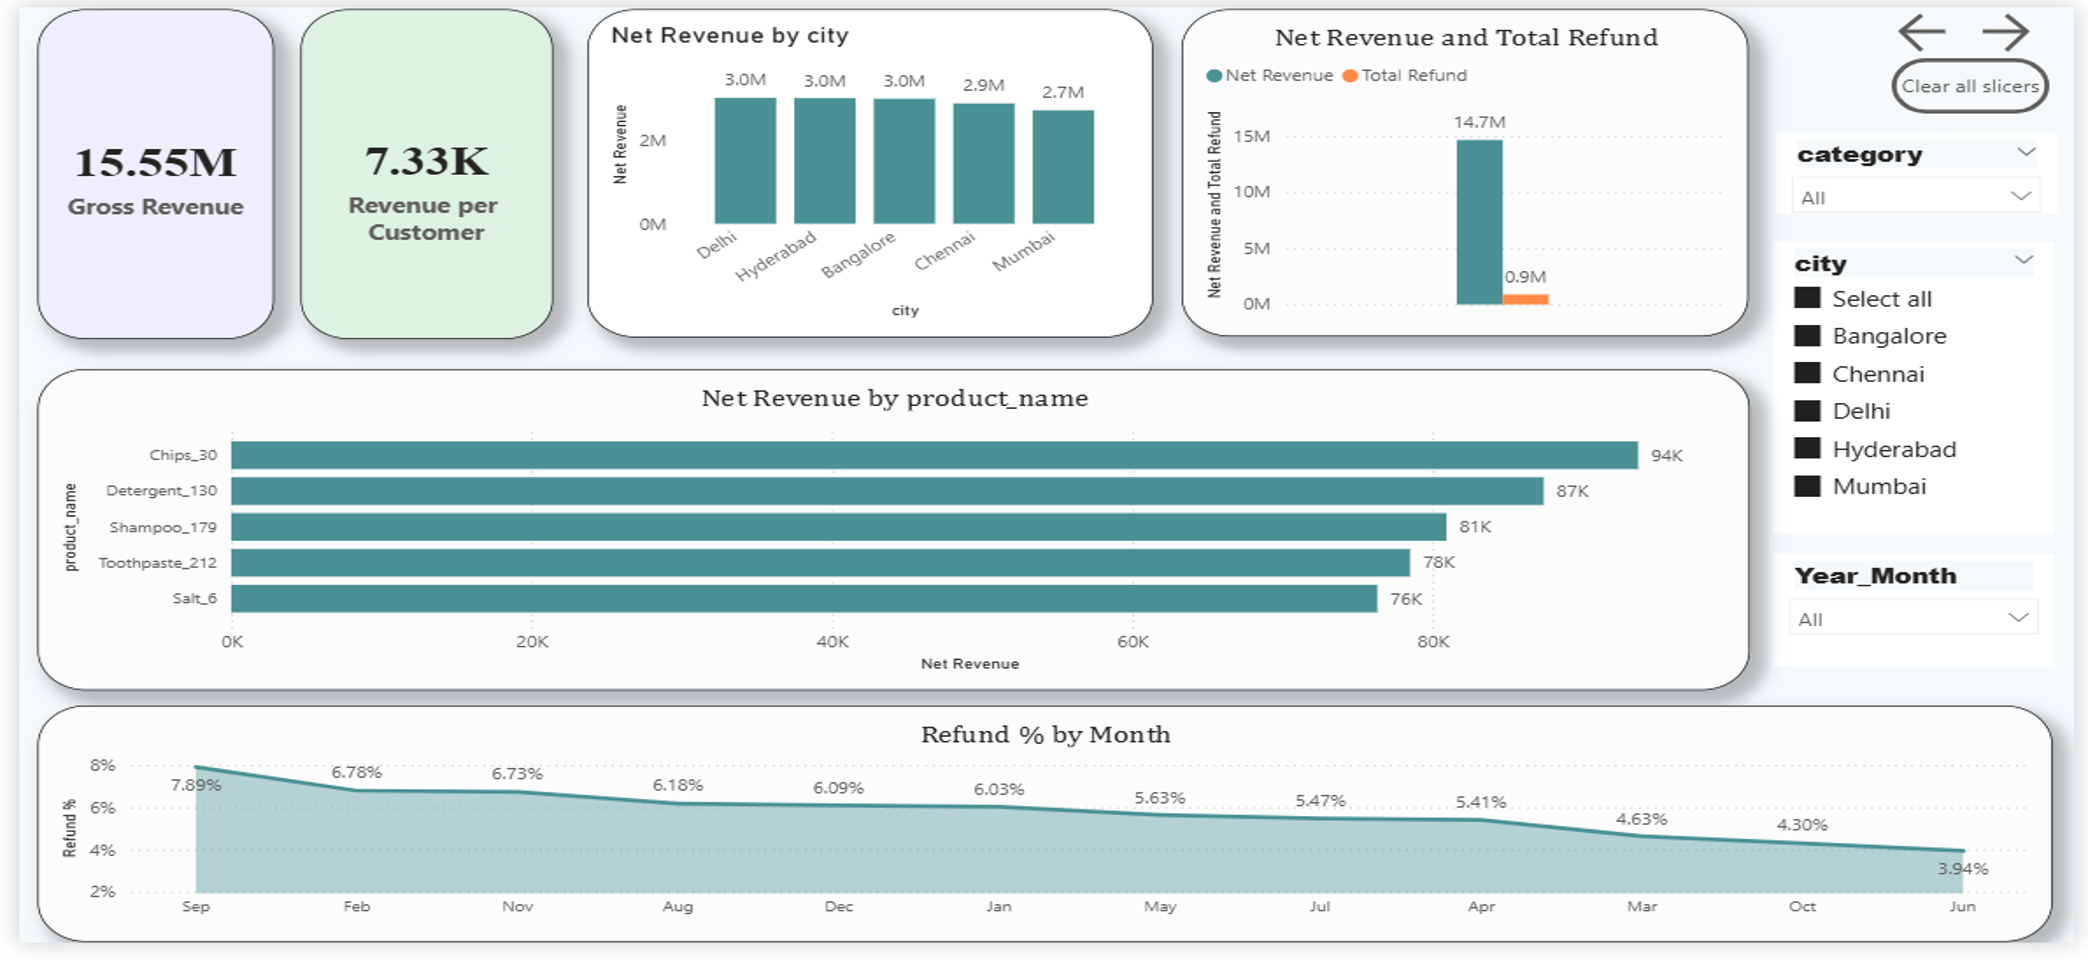

What the dashboard file says about the page in this screenshot:
{"tool":"powerbi","page":{"name":"Revenue Deep Dive","canvas":[1280,720],"ordinal":1},"visuals":[{"type":"slicer","fields":{"Values":["Date_Table.YearMonth"]},"box":[1093.4,421.3,175.4,86.9],"z":0},{"type":"slicer","fields":{"Values":["customers.city"]},"box":[1093.4,180.3,175.4,224.6],"z":1000},{"type":"slicer","fields":{"Values":["products.category"]},"box":[1095.1,96.7,175.4,62.3],"z":2000},{"type":"card","fields":{"Values":["Measure.Gross Revenue"]},"box":[11.5,1.6,147.5,254.1],"z":3000},{"type":"card","fields":{"Values":["Measure.Revenue per Customer"]},"box":[175.4,1.6,157.4,254.1],"z":4000},{"type":"clusteredBarChart","fields":{"Category":["products.product_name"],"Y":["Measure.Net Revenue"]},"box":[11.5,278.7,1067.2,247.5],"z":5000},{"type":"clusteredColumnChart","fields":{"Y":["Measure.Net Revenue","Measure.Total Refund"]},"box":[725,1.7,353.3,251.7],"z":6000},{"type":"lineChart","fields":{"Y":["Measure.Refund %"],"Category":["Date_Table.Month"]},"box":[11.5,537.7,1255.7,182],"z":7000},{"type":"actionButton","box":[1218,0,52.5,39.3],"z":8000},{"type":"actionButton","box":[1167.2,39.3,98.4,42.6],"z":9000},{"type":"actionButton","box":[1167.2,0,50.8,39.3],"z":10000},{"type":"clusteredColumnChart","fields":{"Y":["Measure.Net Revenue"],"Category":["customers.city"]},"box":[354.1,1.6,352.5,252.5],"z":11000}]}

Visuals, with their boxes on the page's 1280x720 design canvas (x1, y1, x2, y2). These are canvas units, not pixel positions in the 2088x962 screenshot, which may show the page scaled, cropped or inside an application window:
slicer - Date_Table.YearMonth: <bbox>1093, 421, 1269, 508</bbox>
slicer - customers.city: <bbox>1093, 180, 1269, 405</bbox>
slicer - products.category: <bbox>1095, 97, 1270, 159</bbox>
card - Measure.Gross Revenue: <bbox>12, 2, 159, 256</bbox>
card - Measure.Revenue per Customer: <bbox>175, 2, 333, 256</bbox>
clusteredBarChart - products.product_name x Measure.Net Revenue: <bbox>12, 279, 1079, 526</bbox>
clusteredColumnChart - Measure.Net Revenue x Measure.Total Refund: <bbox>725, 2, 1078, 253</bbox>
lineChart - Measure.Refund % x Date_Table.Month: <bbox>12, 538, 1267, 720</bbox>
actionButton: <bbox>1218, 0, 1270, 39</bbox>
actionButton: <bbox>1167, 39, 1266, 82</bbox>
actionButton: <bbox>1167, 0, 1218, 39</bbox>
clusteredColumnChart - Measure.Net Revenue x customers.city: <bbox>354, 2, 707, 254</bbox>
